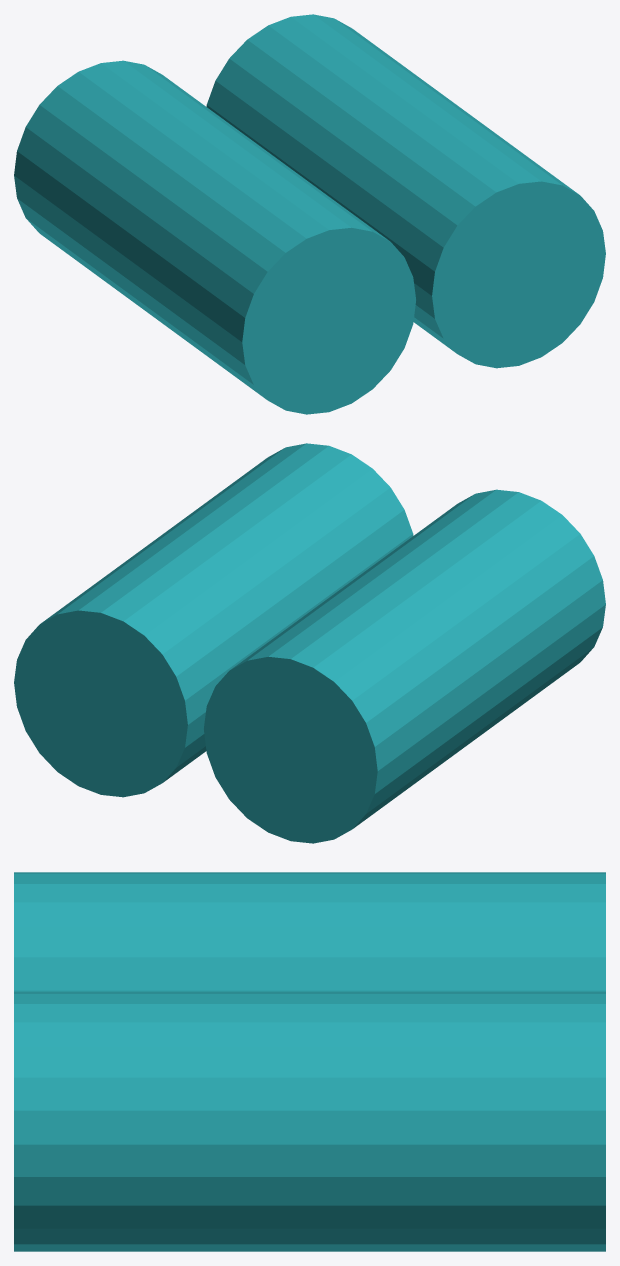
Rendered from water-softener.glb.
3 views of the same model, one above another, from view 1: azimuth 30°, elevation 25°; view 2: azimuth 150°, elevation 25°; view 3: azimuth 270°, elevation 25° (orthographic). The views are drawn at different scales.
Visible parts, largest first — view 1: world; view 2: world; view 3: world.
Part boxes in pixels (x1=…): world: x1=14, y1=14, x2=605, y2=414; world: x1=14, y1=443, x2=605, y2=843; world: x1=14, y1=872, x2=605, y2=1251.
Bounding box in the file's own units: 0.92 × 0.44 × 1.
